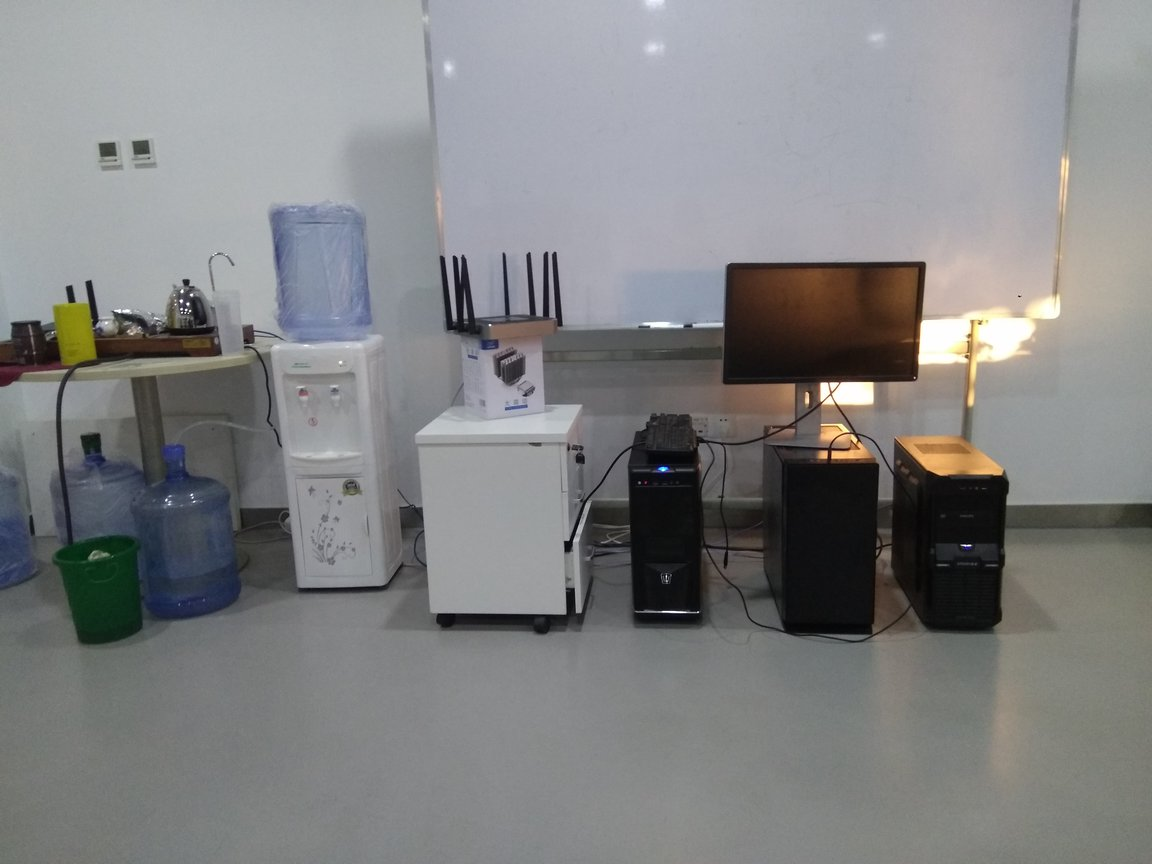computer: (764, 418, 882, 639), (891, 431, 1015, 640), (630, 412, 713, 632)
drawer chest: (419, 403, 600, 640)
monitor: (718, 259, 931, 452)
scuttlebutt: (136, 447, 246, 617), (263, 194, 372, 339), (56, 427, 142, 602), (1, 455, 39, 593)
water dispenser: (269, 334, 405, 597)
